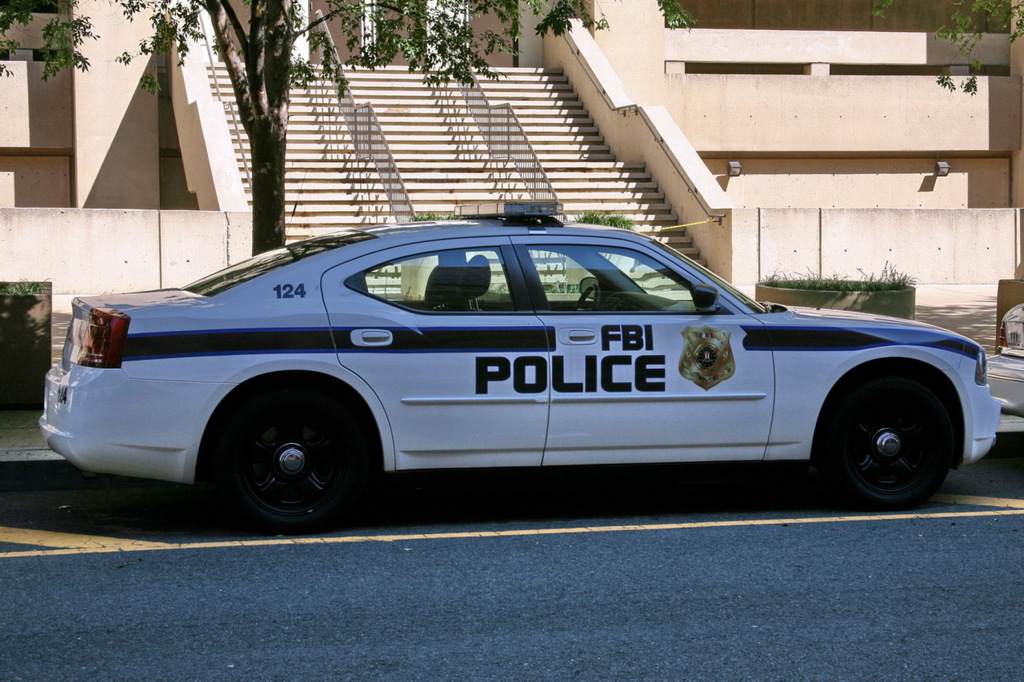Car: (27, 211, 1000, 526), (985, 302, 1023, 450)
